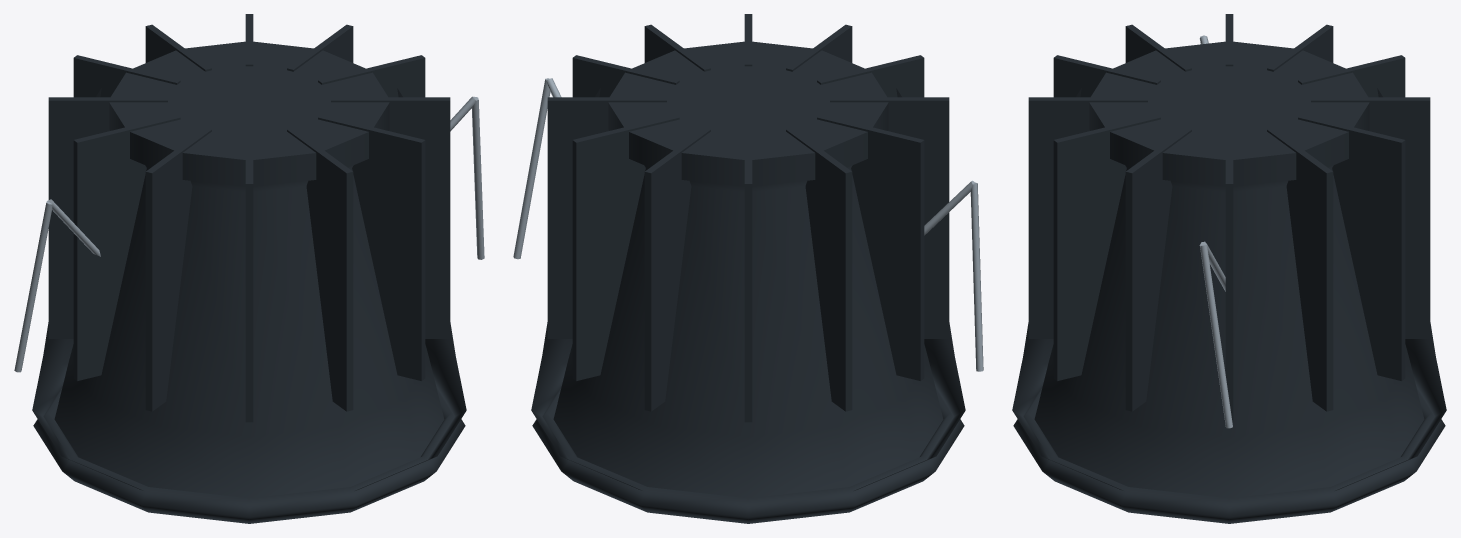
Rendered from source.glb.
The picture shows the model from 3 angles, left to right: view 1: azimuth 30°, elevation 25°; view 2: azimuth 150°, elevation 25°; view 3: azimuth 270°, elevation 25°; orthographic projection.
Parts seen in each view (by area): view 1: 粉末涂层铝壳, 机加工金属; view 2: 粉末涂层铝壳, 机加工金属; view 3: 粉末涂层铝壳, 机加工金属.
Part boxes in pixels (box(x1,y1,x2,y2)): 粉末涂层铝壳: box(32, 14, 466, 523); 机加工金属: box(14, 96, 484, 372); 粉末涂层铝壳: box(531, 14, 965, 523); 机加工金属: box(513, 78, 983, 371); 粉末涂层铝壳: box(1012, 14, 1446, 523); 机加工金属: box(1199, 35, 1232, 428).
Bounding box in the file's own units: 0.106 × 0.0738 × 0.085.
